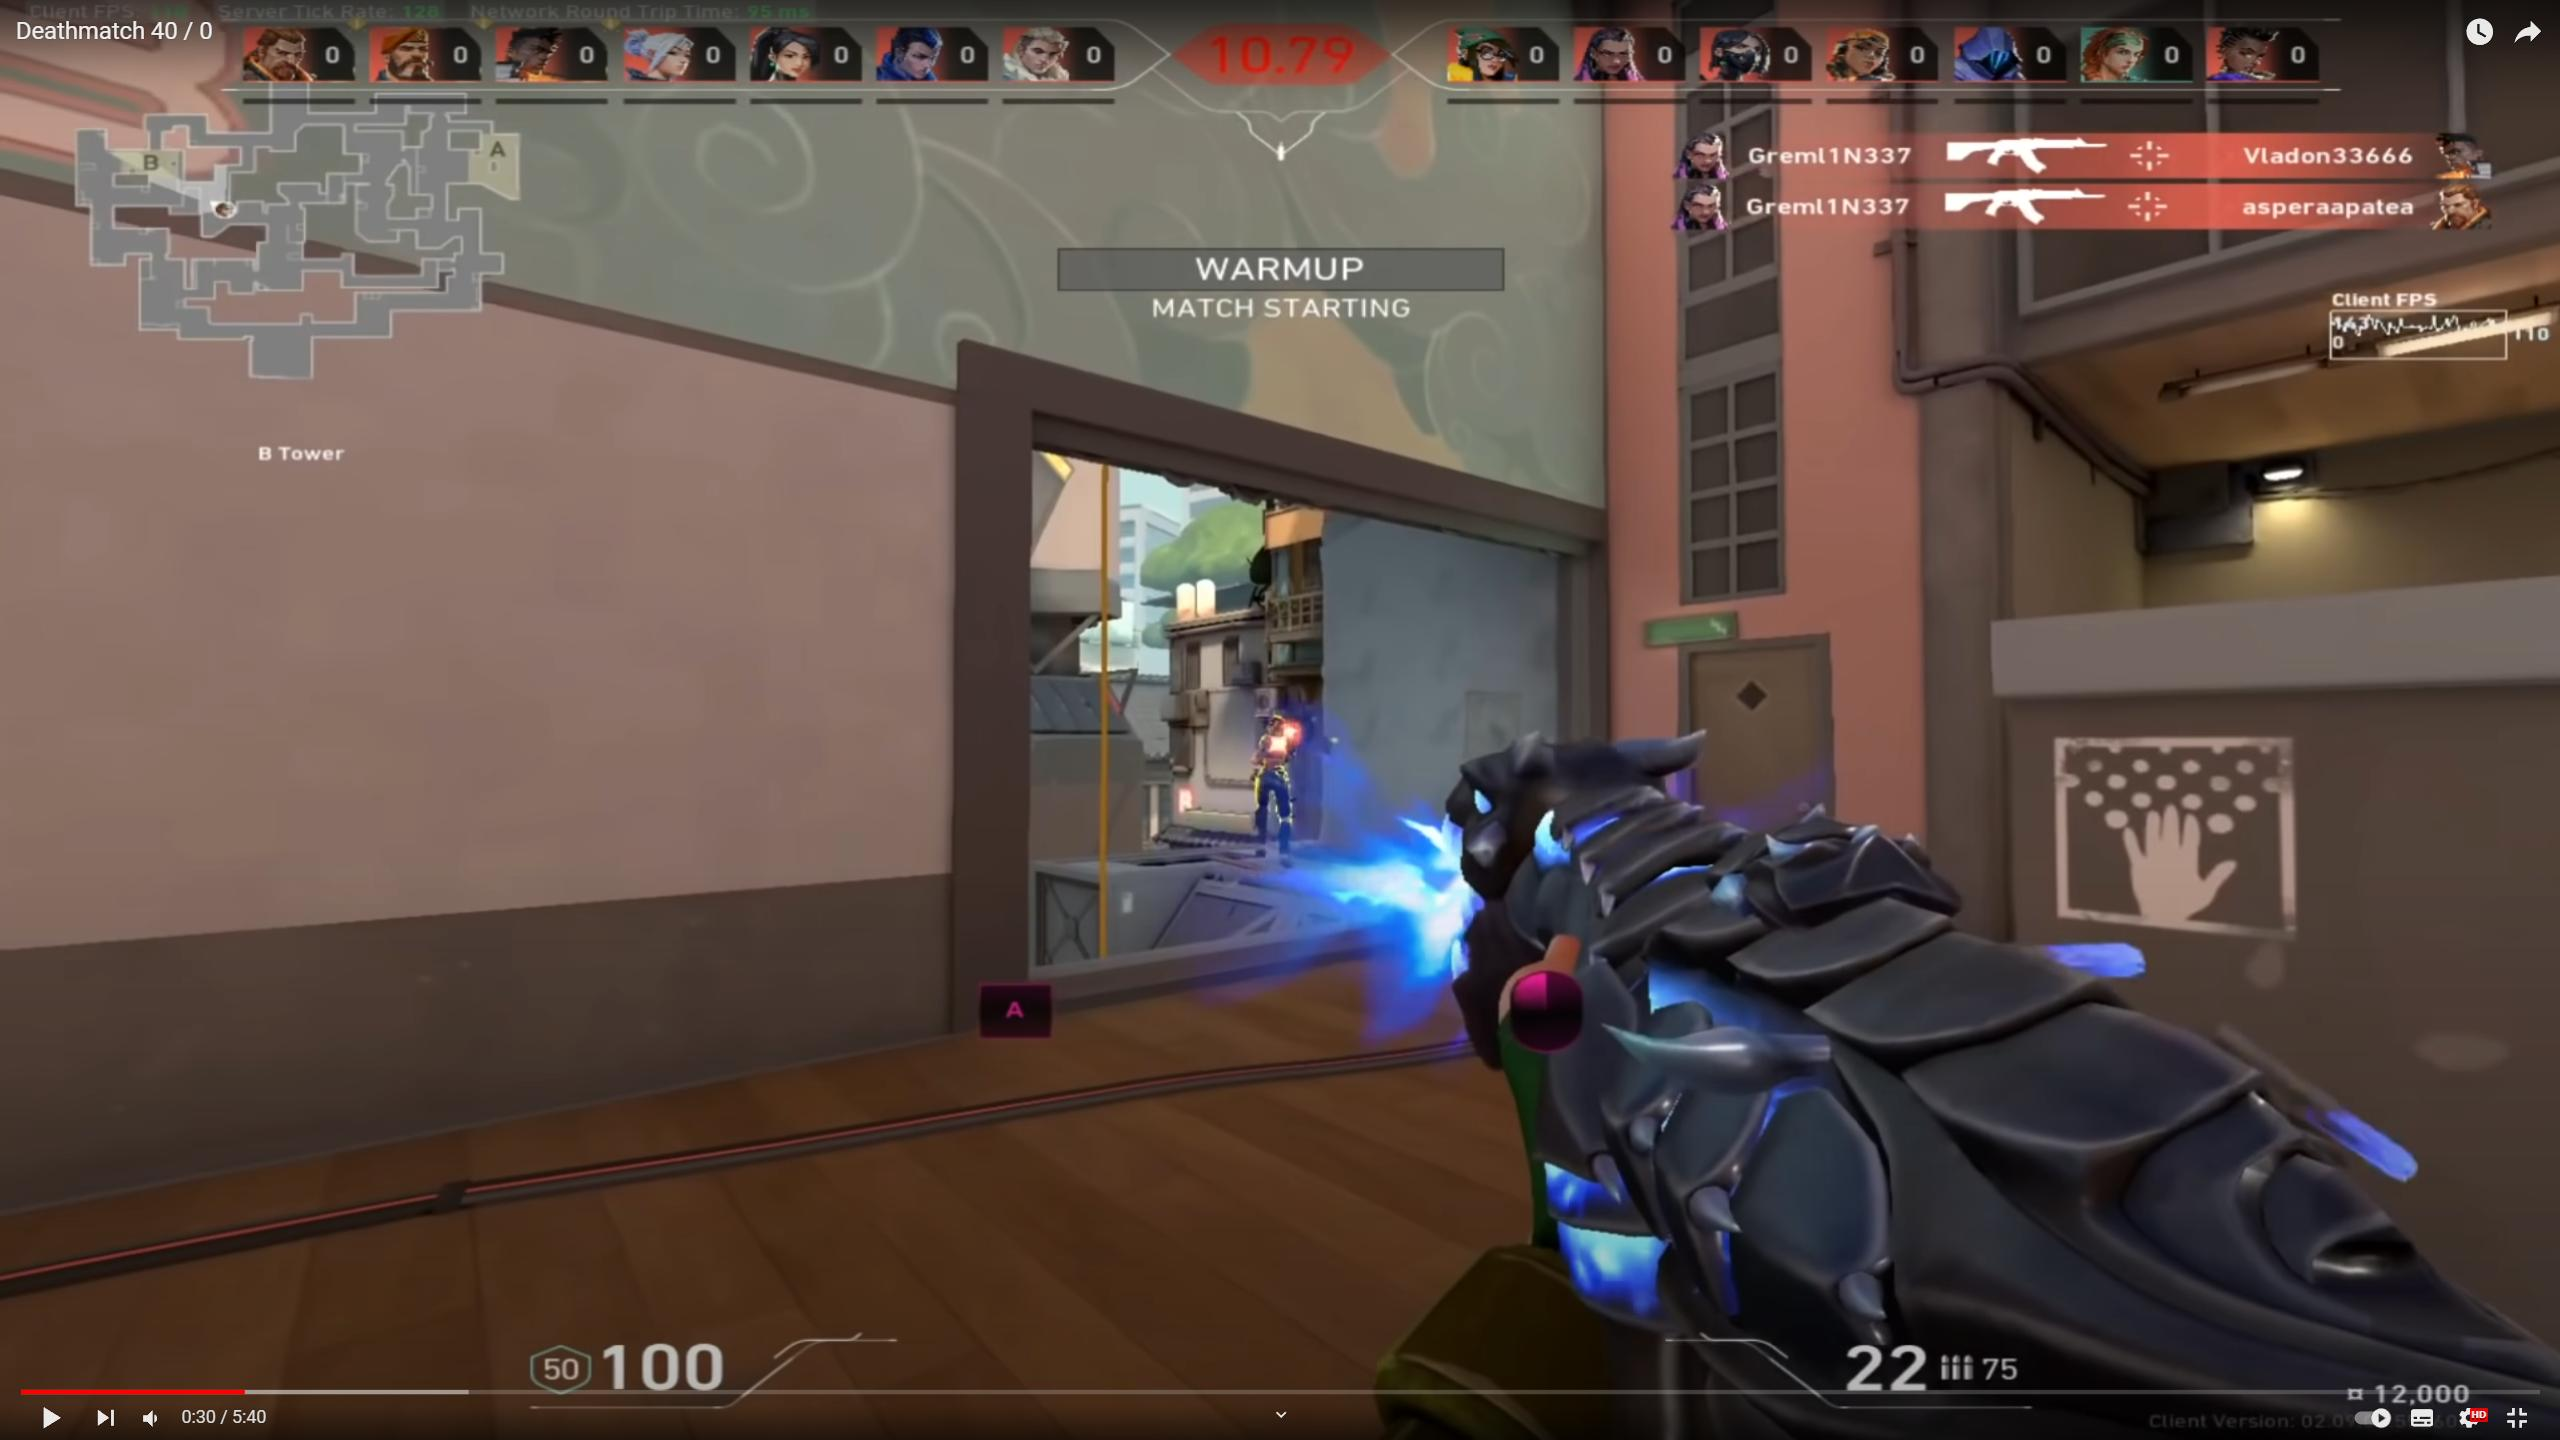enemyHead: (1266, 709, 1289, 749)
